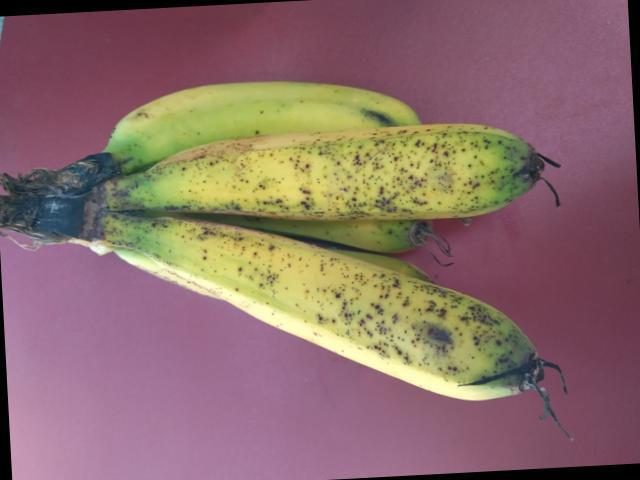ripe: (95, 209, 590, 439), (136, 100, 551, 237)
